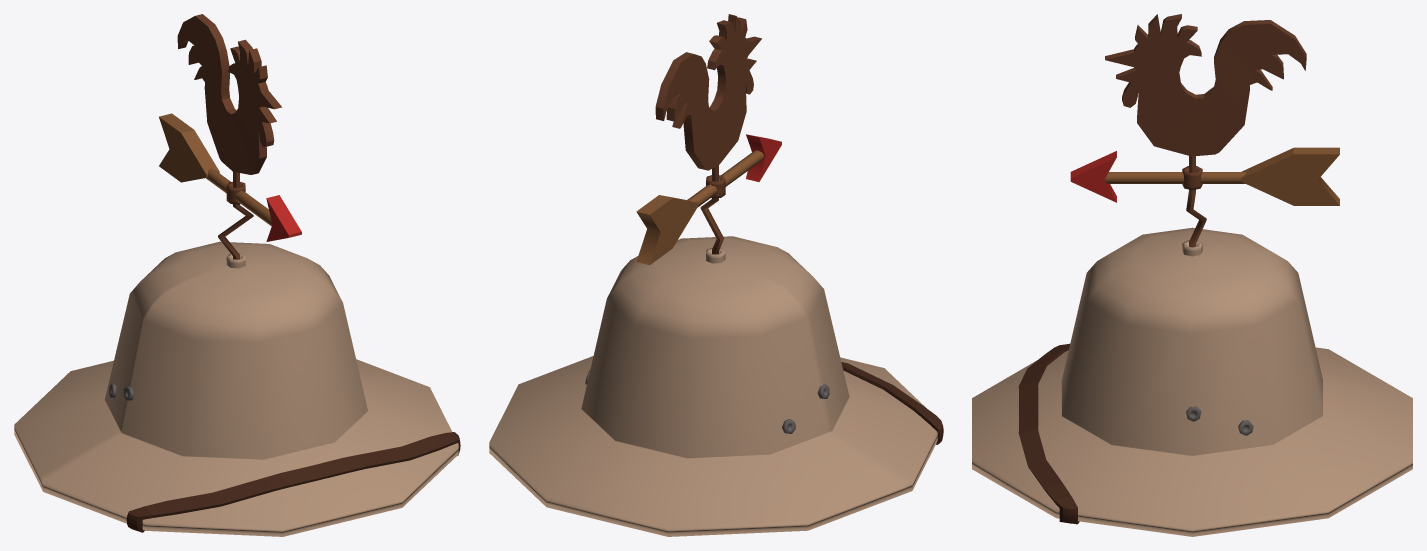
Rendered from ExplorersHatV2.fbx.
The picture shows the model from 3 angles, left to right: view 1: azimuth 30°, elevation 25°; view 2: azimuth 150°, elevation 25°; view 3: azimuth 270°, elevation 25°; orthographic projection. The views are drawn at different scales.
Visible parts, largest first — view 1: Hat, Rooster; view 2: Hat, Rooster; view 3: Hat, Rooster.
Part boxes in pixels (left/top/right/bottom): Hat: left=14, top=241, right=460, bottom=536; Rooster: left=159, top=14, right=301, bottom=259; Hat: left=489, top=236, right=943, bottom=536; Rooster: left=636, top=14, right=781, bottom=265; Hat: left=972, top=227, right=1412, bottom=536; Rooster: left=1070, top=14, right=1339, bottom=247.
Bounding box in the file's own units: 49.58 × 50.3 × 47.15.
Materials: 1 (1 with a texture image).
